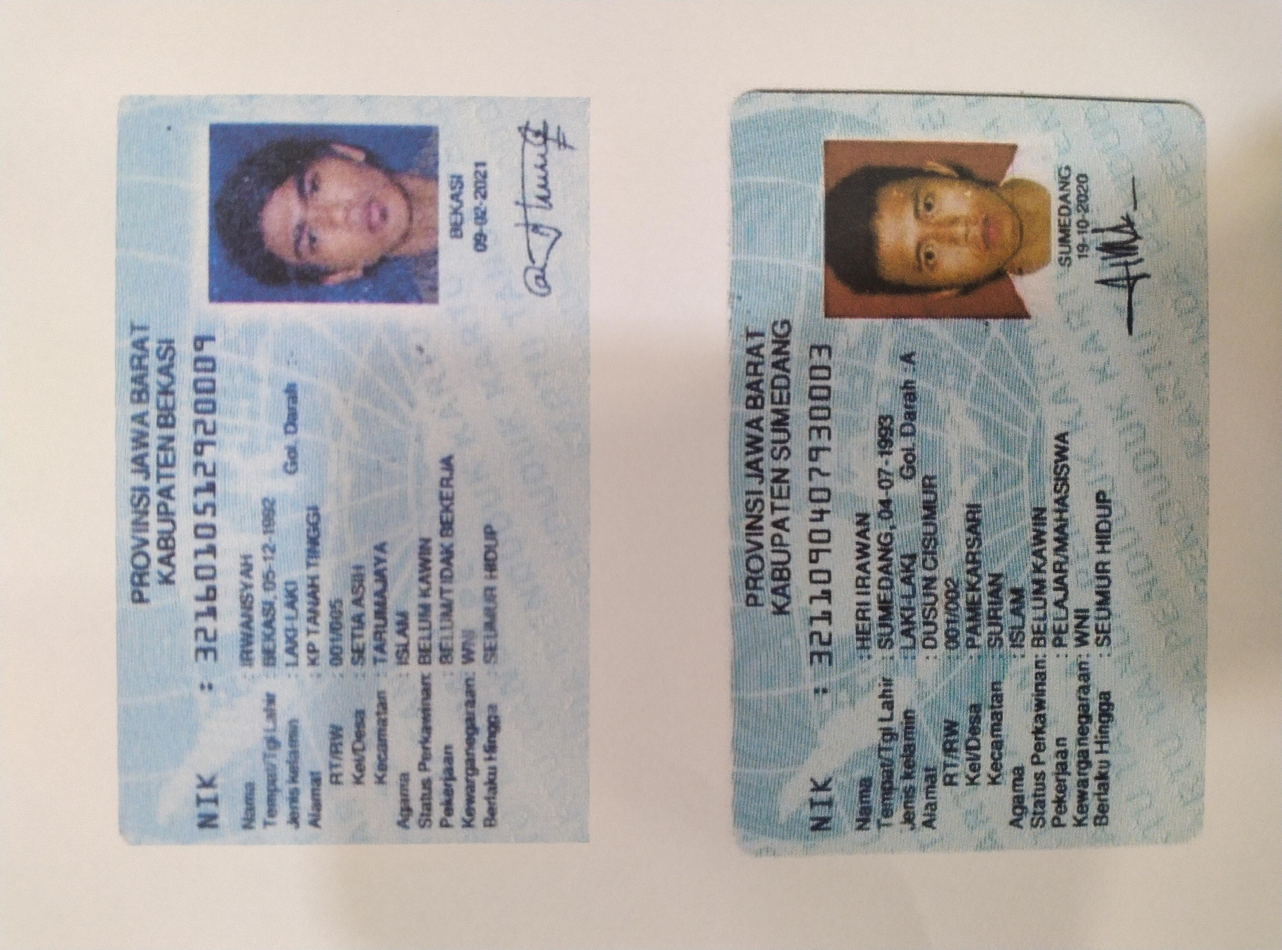ID-card: (147, 89, 1154, 434), (132, 541, 1150, 882)
